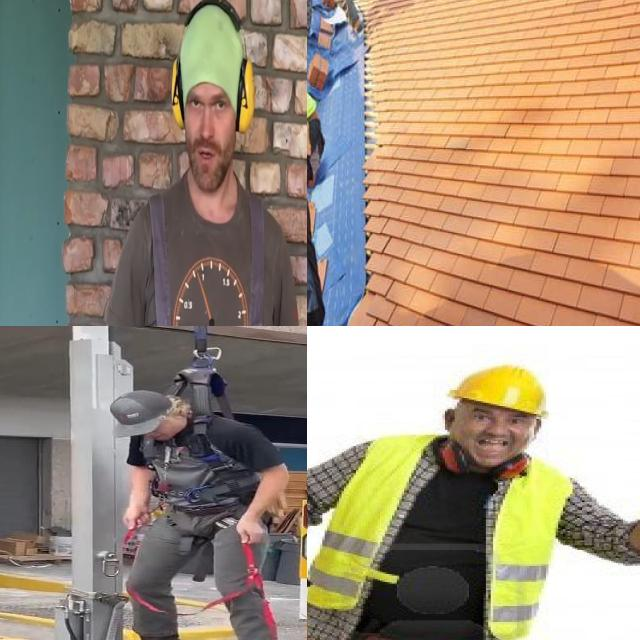Ear-protection: (168, 0, 256, 202)
Harness: (173, 326, 232, 424)
No_Glasses: (185, 83, 230, 125)
face_nomask: (455, 403, 537, 472)
head_helmet: (435, 358, 567, 417)
person: (307, 341, 609, 640)
vest: (322, 442, 536, 636)
